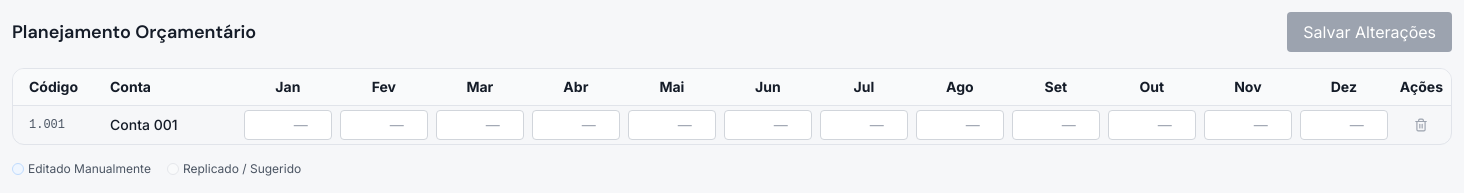
BudgetGrid › deve marcar celula como manual ao digitar
Type "8000" into the 6th number field with placeholder "—" at (768, 125), box left=724, top=110, right=812, bottom=140
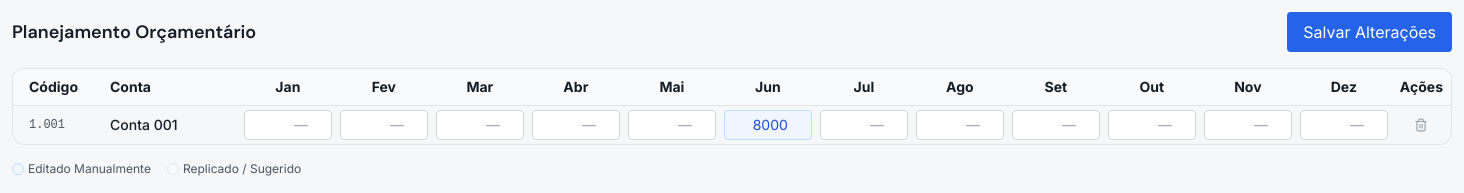
Expected: the number field with placeholder "—" has class "text-blue-700", left=724, top=110, right=812, bottom=140
Expected: the number field with placeholder "—" has class "bg-blue-50", left=724, top=110, right=812, bottom=140
